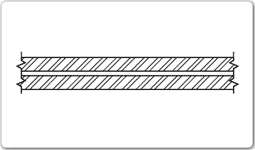wall: (85, 57, 161, 71)
